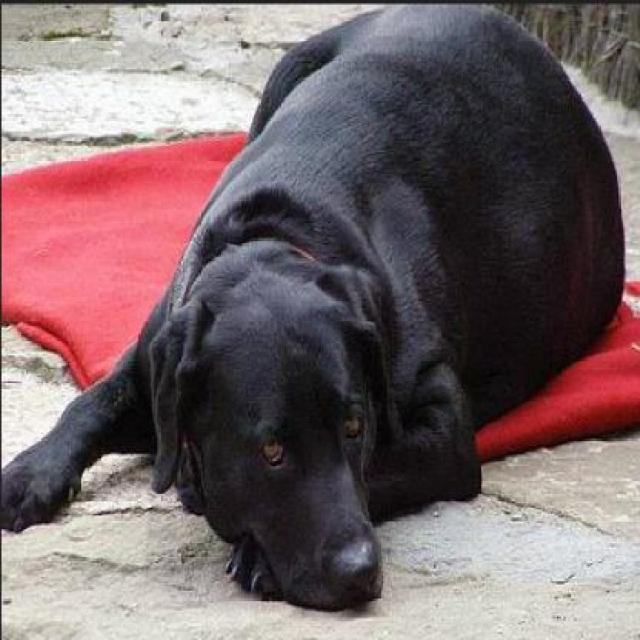Dog: (3, 4, 629, 638)
